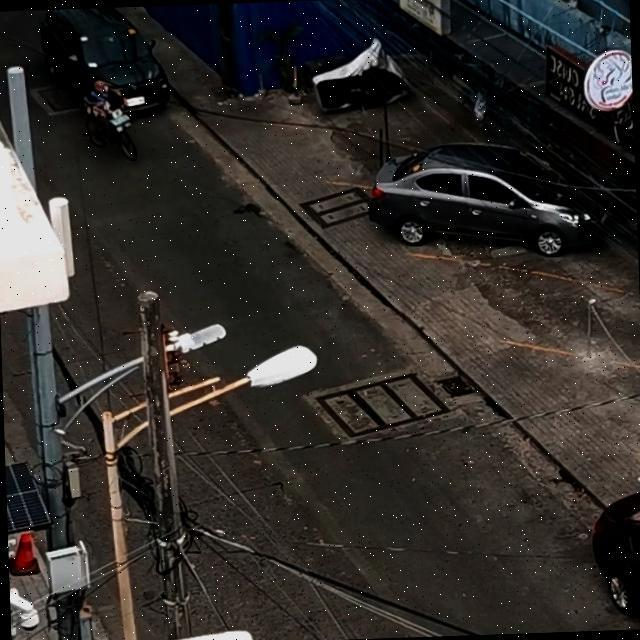Bike: (61, 61, 163, 168)
